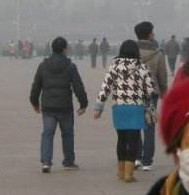person: (28, 35, 89, 172), (96, 38, 154, 181), (133, 19, 169, 171), (166, 34, 181, 77), (98, 35, 112, 71), (86, 35, 100, 70), (8, 39, 18, 61), (76, 39, 85, 60), (18, 38, 26, 59), (45, 40, 52, 57), (27, 42, 34, 59), (160, 39, 166, 47)
